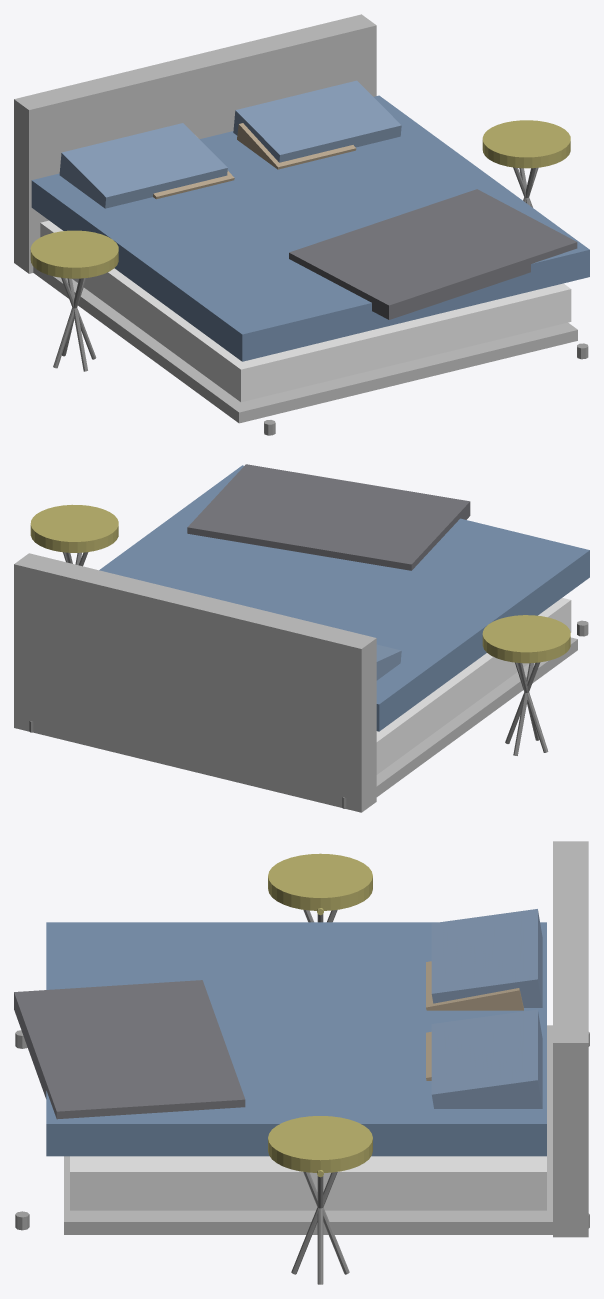
3 views of the same model, one above another, from view 1: azimuth 30°, elevation 25°; view 2: azimuth 150°, elevation 25°; view 3: azimuth 270°, elevation 25° (orthographic). The views are drawn at different scales.
Parts seen in each view (by area): view 1: duvet, headboard, mattress, throw_blanket, bed_frame, pillow_back_0, pillow_back_1, nightstand_right_top, nightstand_left_top, pillow_mid_1, pillow_mid_0; view 2: headboard, duvet, throw_blanket, mattress, bed_frame, nightstand_left_top, nightstand_right_top, pillow_back_0; view 3: duvet, throw_blanket, mattress, headboard, bed_frame, pillow_back_1, pillow_back_0, nightstand_left_top, nightstand_right_top, pillow_mid_0, nightstand_right_leg_3, nightstand_right_leg_2.
Boxes of the visible parts, box(x1,y1,x2,y2) form: duvet: box(31, 95, 589, 361); headboard: box(14, 14, 376, 273); mattress: box(40, 220, 571, 402); throw_blanket: box(289, 189, 577, 319); bed_frame: box(33, 267, 577, 423); pillow_back_0: box(59, 123, 227, 208); pillow_back_1: box(233, 80, 401, 162); nightstand_right_top: box(482, 120, 570, 168); nightstand_left_top: box(30, 230, 118, 278); pillow_mid_1: box(237, 123, 356, 169); pillow_mid_0: box(153, 135, 234, 199); headboard: box(14, 553, 376, 812); duvet: box(99, 465, 589, 731); throw_blanket: box(187, 464, 470, 570); mattress: box(376, 597, 571, 774); bed_frame: box(376, 637, 577, 796); nightstand_left_top: box(482, 615, 570, 663); nightstand_right_top: box(30, 504, 118, 552); pillow_back_0: box(376, 644, 401, 680); duvet: box(46, 922, 546, 1156); throw_blanket: box(14, 980, 245, 1119); mattress: box(70, 1156, 546, 1210); headboard: box(553, 841, 588, 1237); bed_frame: box(64, 1025, 552, 1234); pillow_back_1: box(431, 1009, 542, 1108); pillow_back_0: box(431, 909, 542, 1007); nightstand_left_top: box(268, 853, 372, 910); nightstand_right_top: box(268, 1116, 372, 1172); pillow_mid_0: box(426, 961, 523, 1010); nightstand_right_leg_3: box(291, 1172, 337, 1274); nightstand_right_leg_2: box(303, 1172, 349, 1274).
Bounding box in the file's own units: 3.05 × 0.9294 × 2.42.
